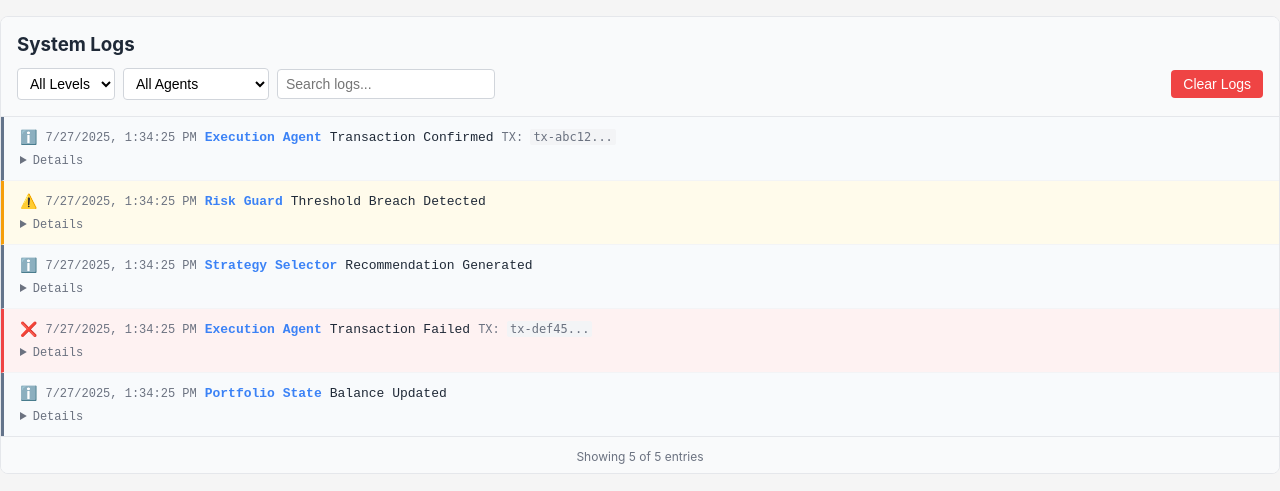
it: LogDisplay › filters logs by search term
Type "transaction" into the field with placeholder "Search logs..." at (386, 84), box top-left (277, 69), bottom-right (495, 99)
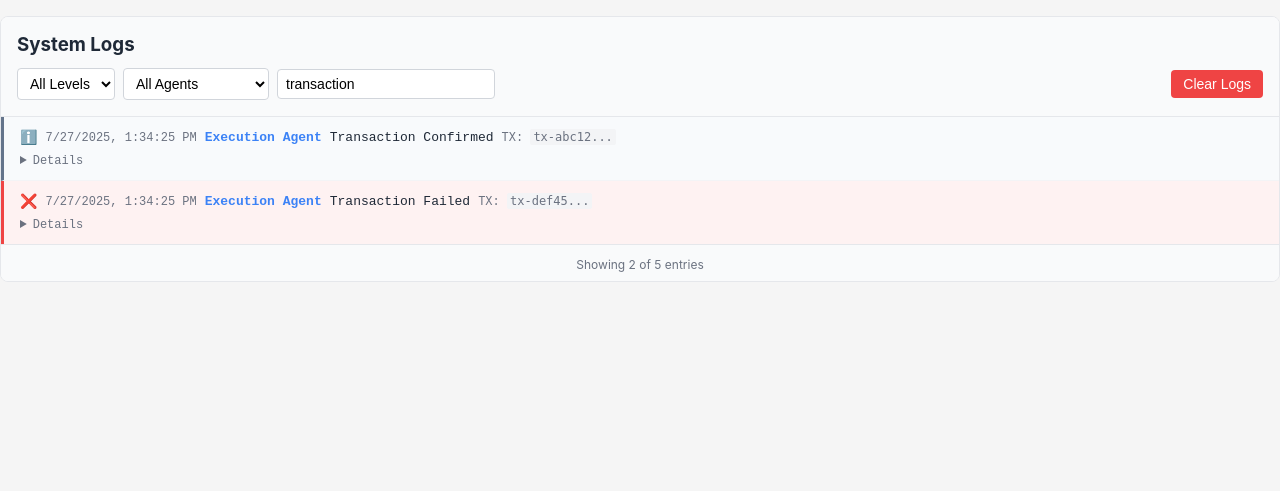
Expected: the text "Transaction Confirmed" is shown, top-left (330, 130), bottom-right (494, 145)
Expected: the text "Threshold Breach Detected" is gone
Expected: the text "Recommendation Generated" is gone
